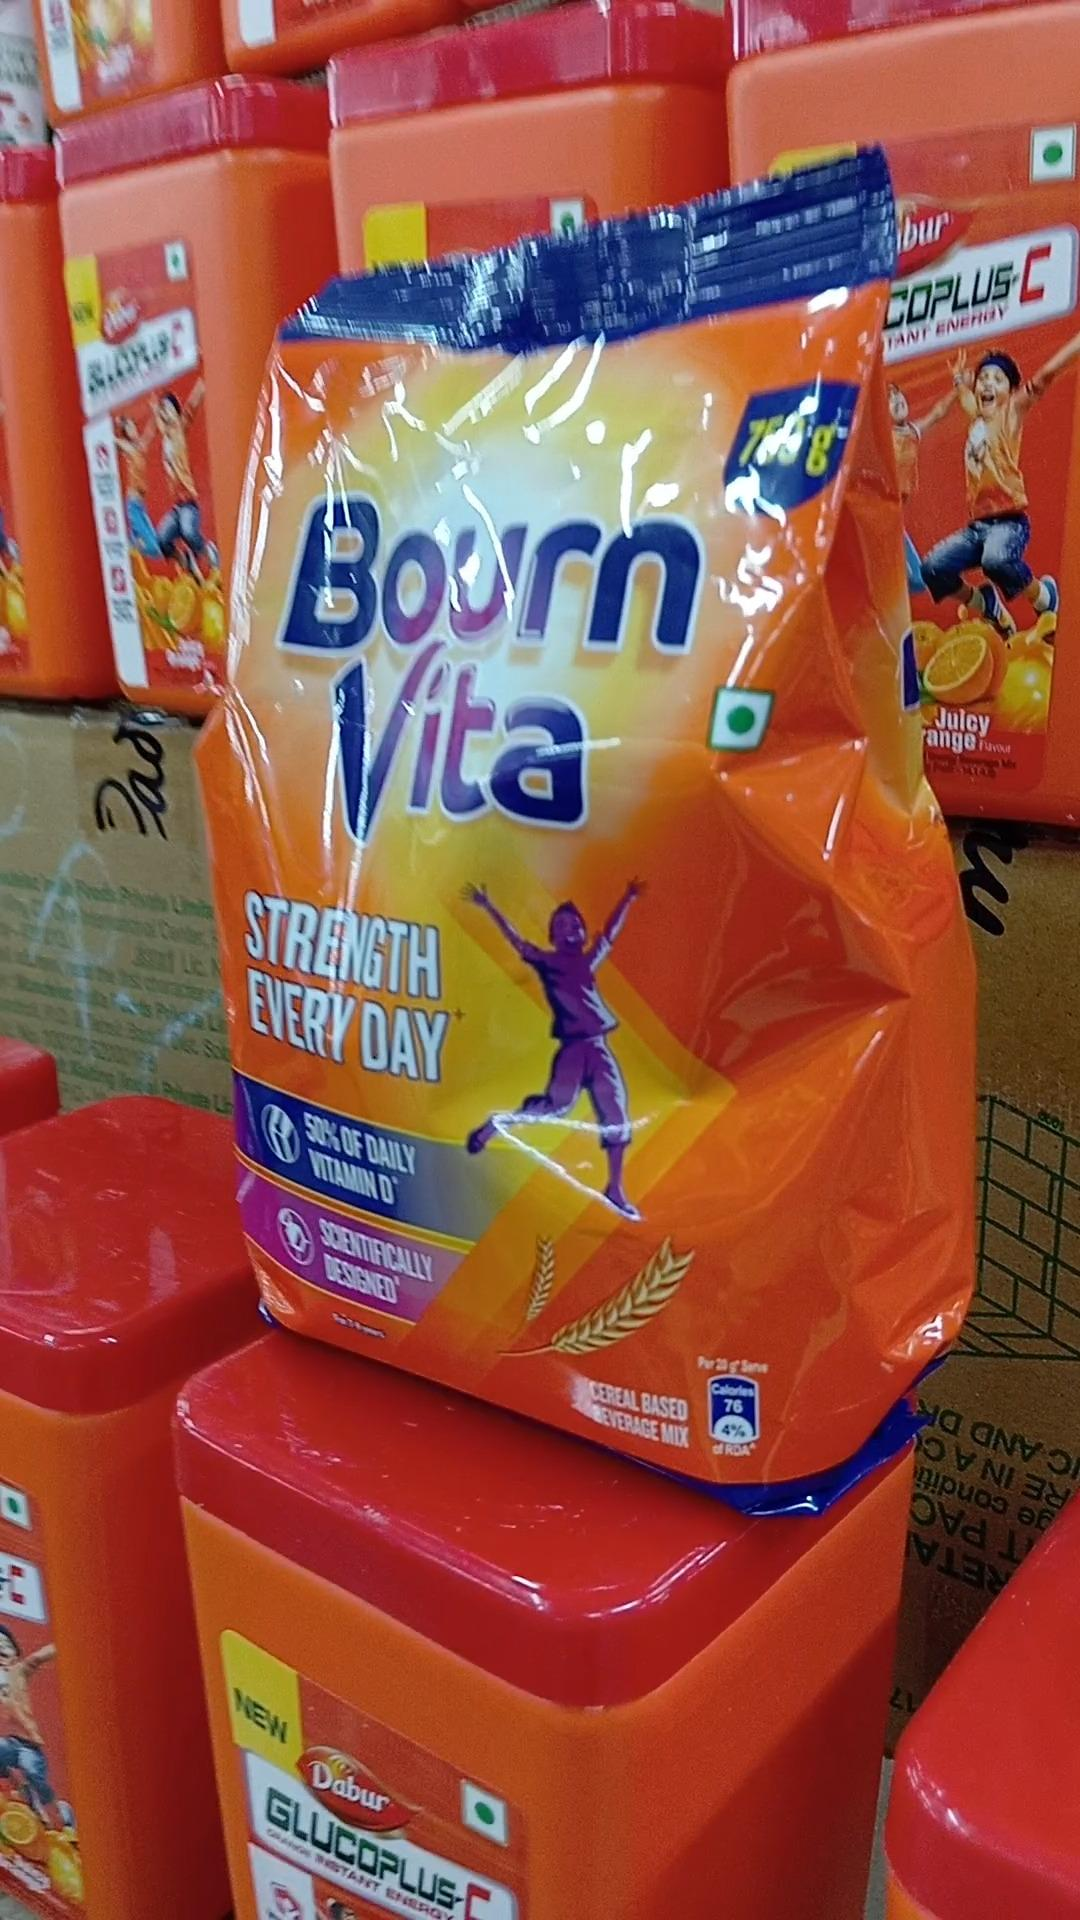BOURN_VITA_750_G_POUCH: (229, 194, 926, 1468)
